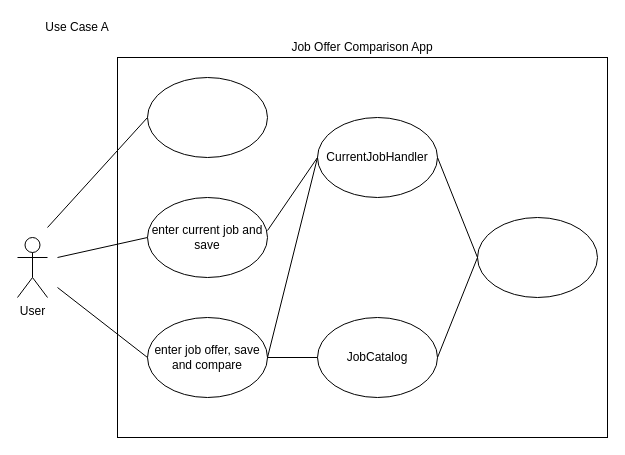
This 625x455 diagram has some shape labels left out. The shapes that lost their labels are listed below. From the top down, each one's box as (x1, y1, x2, y2) in pixels, then its label:
(146, 76, 268, 158): MainMenu
(476, 216, 598, 298): JobDetails
